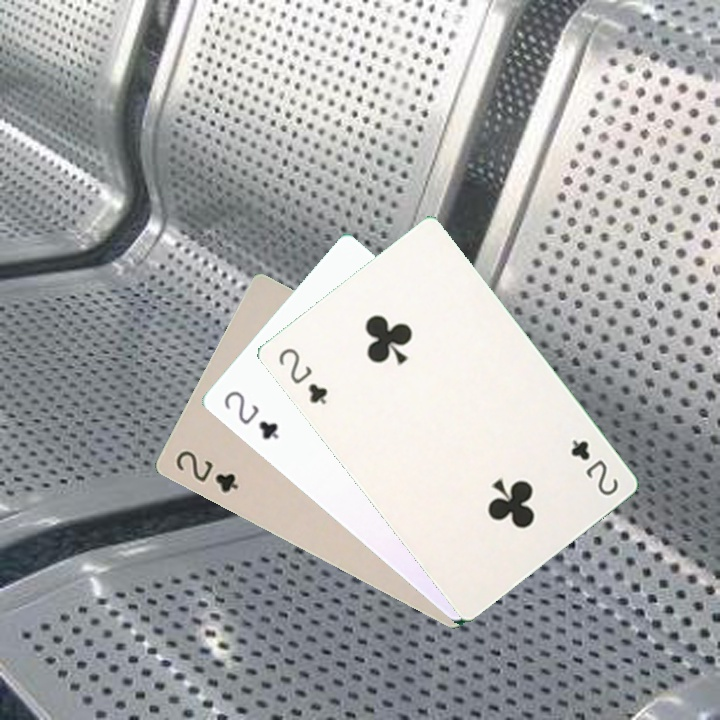2c: (274, 343, 331, 408), (219, 386, 282, 442), (566, 435, 621, 499), (171, 446, 241, 495)
